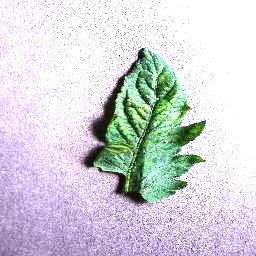Tomato_mosaic_virus: (124, 90, 160, 142), (140, 72, 178, 118), (104, 112, 137, 156), (177, 122, 205, 145)
